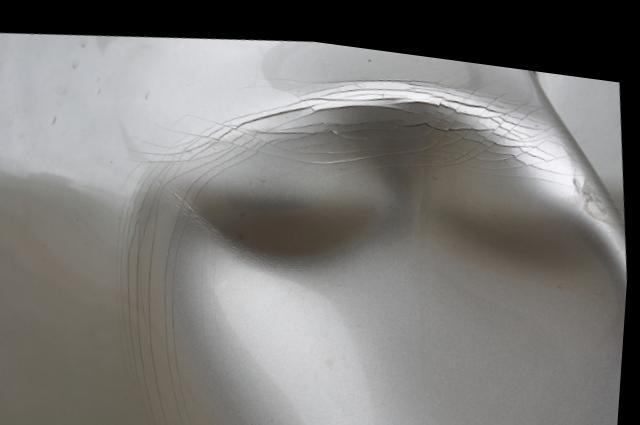dent: (176, 88, 629, 425)
